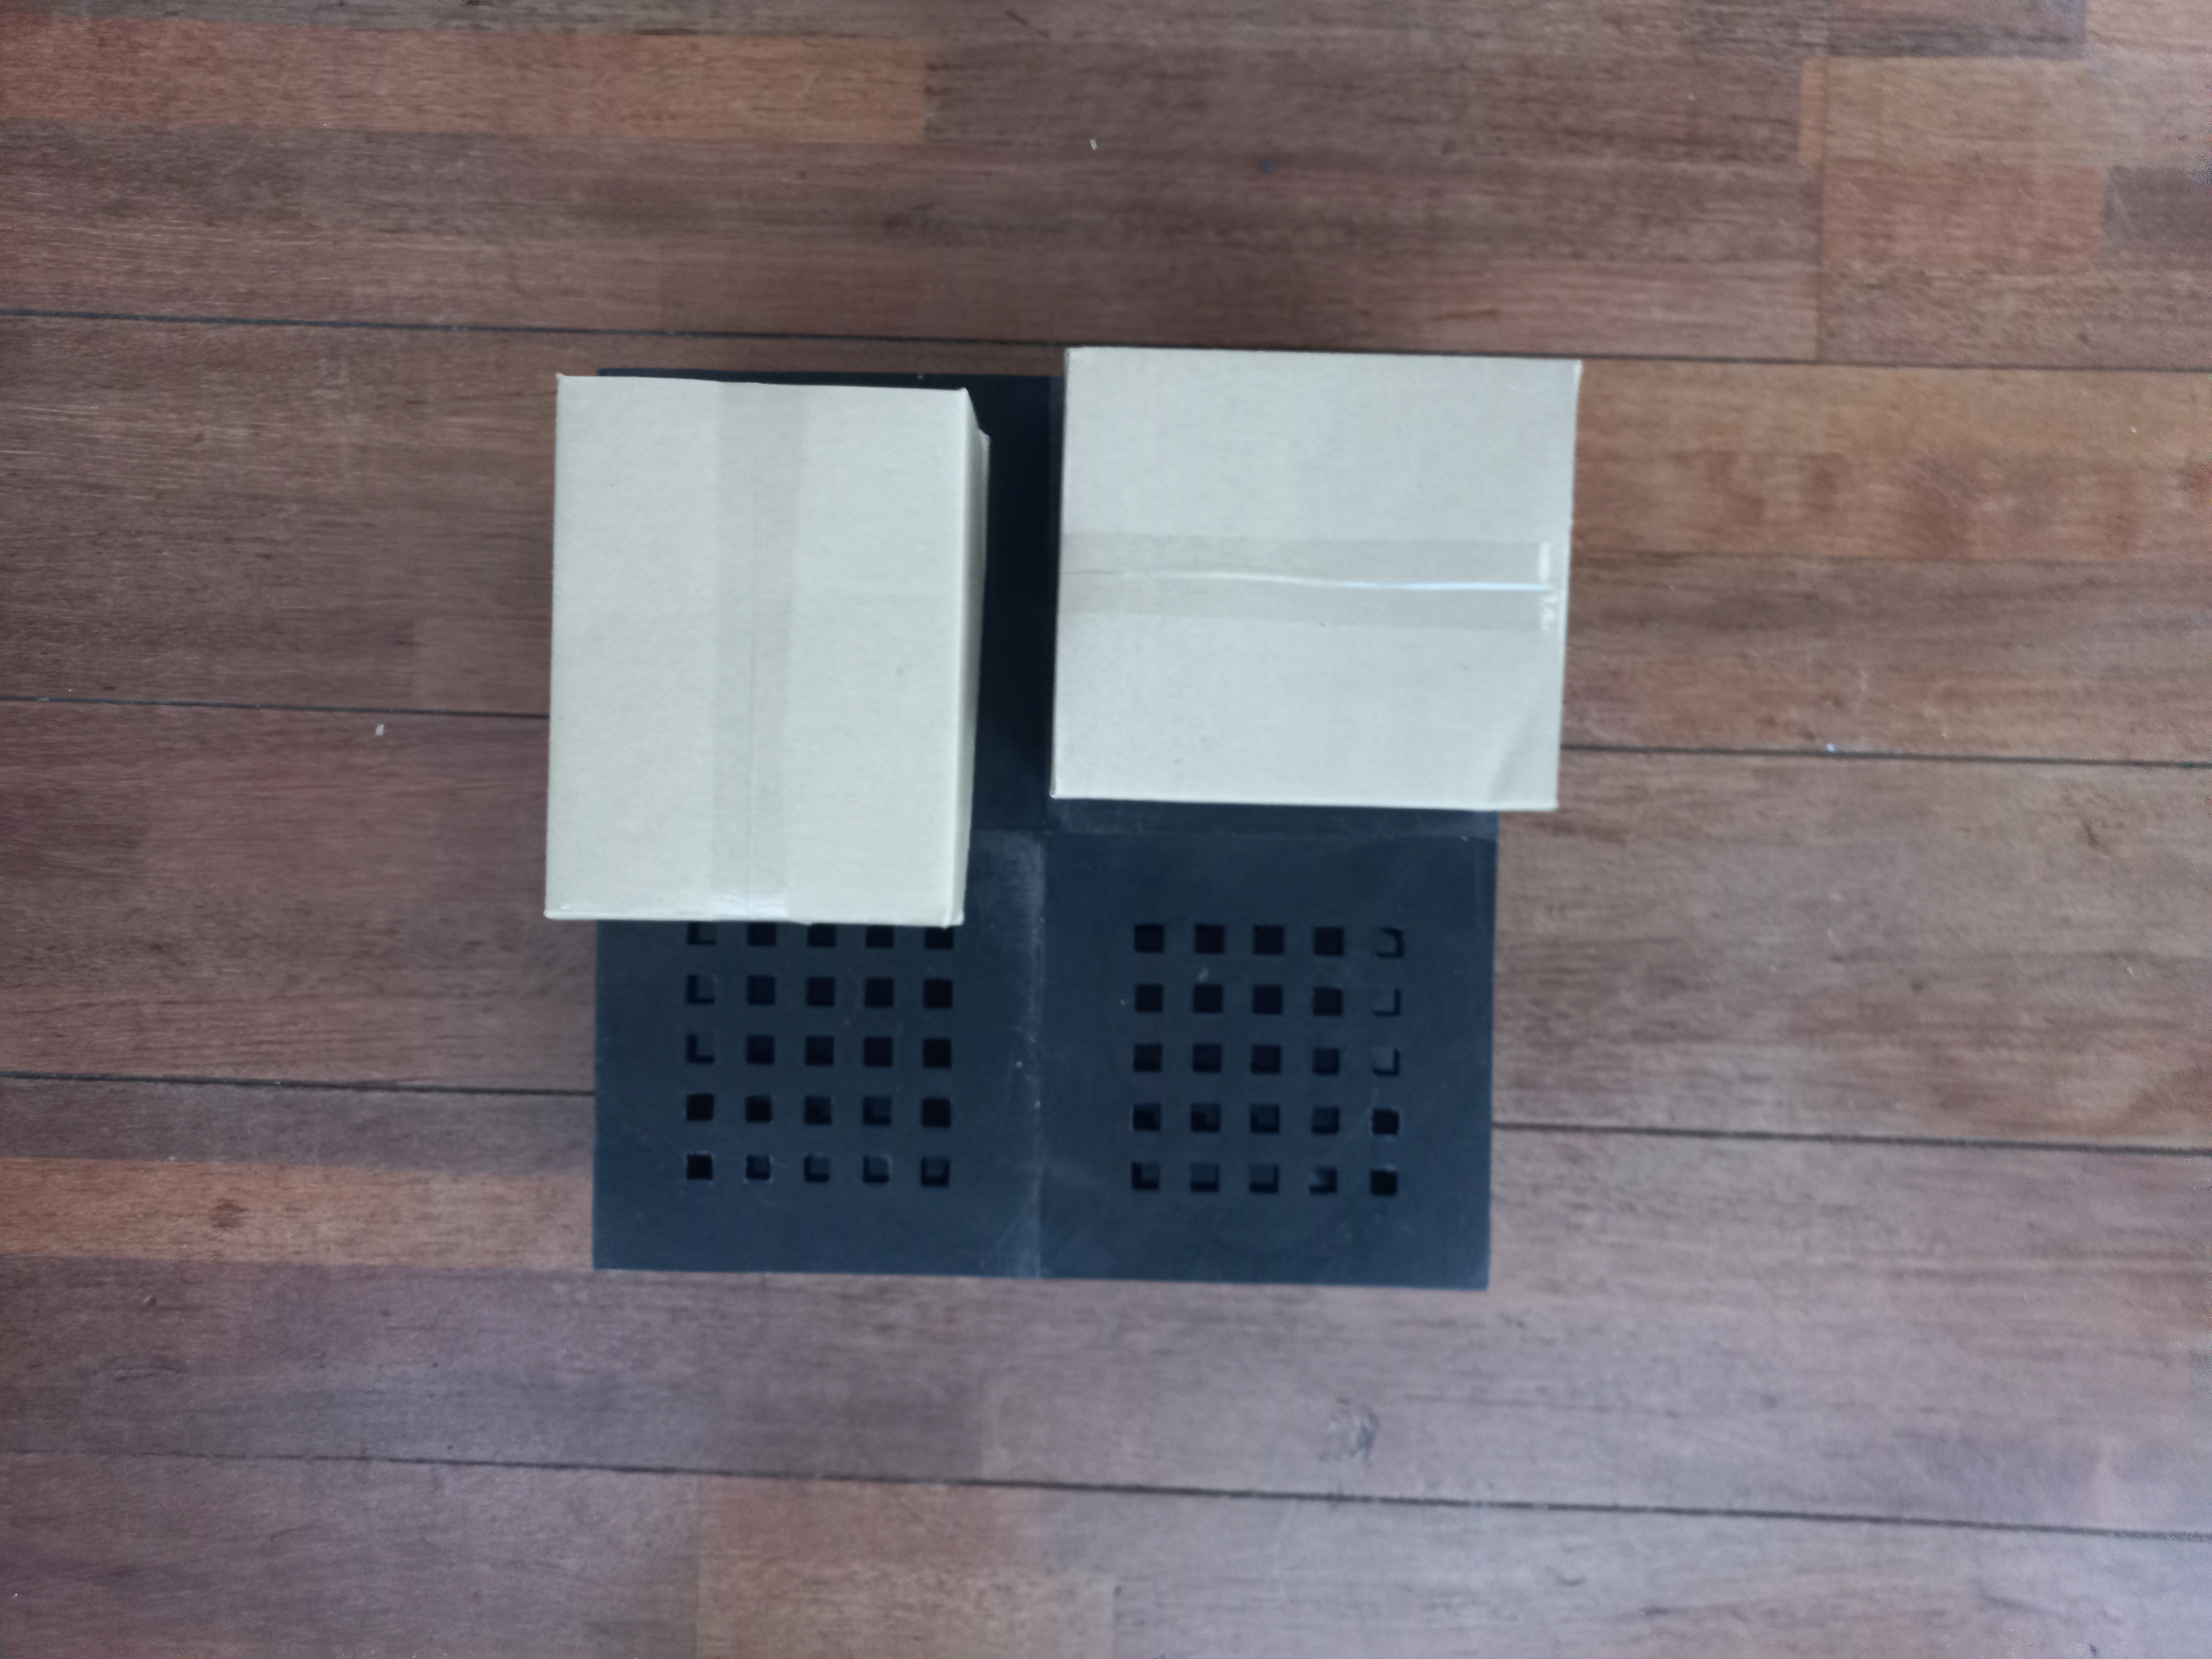box: (1047, 340, 1588, 821), (543, 368, 982, 931)
